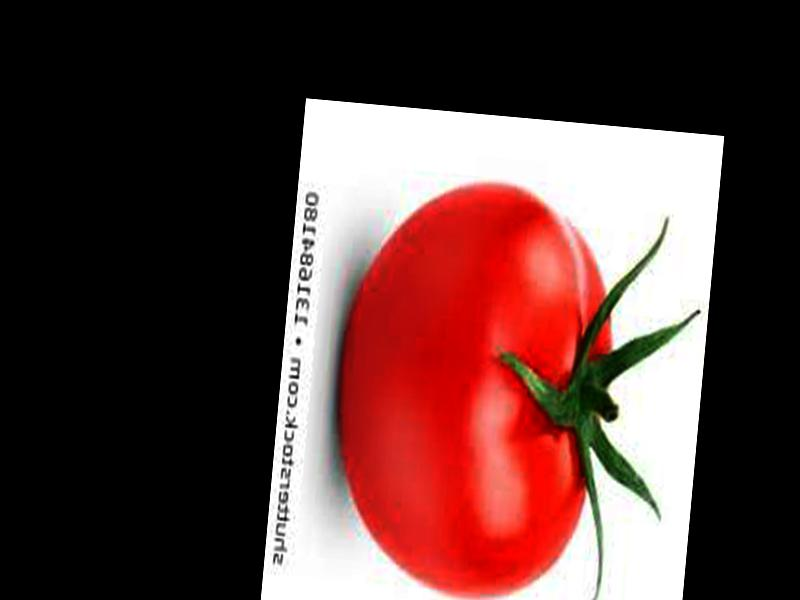Tomato: (325, 170, 622, 600)
